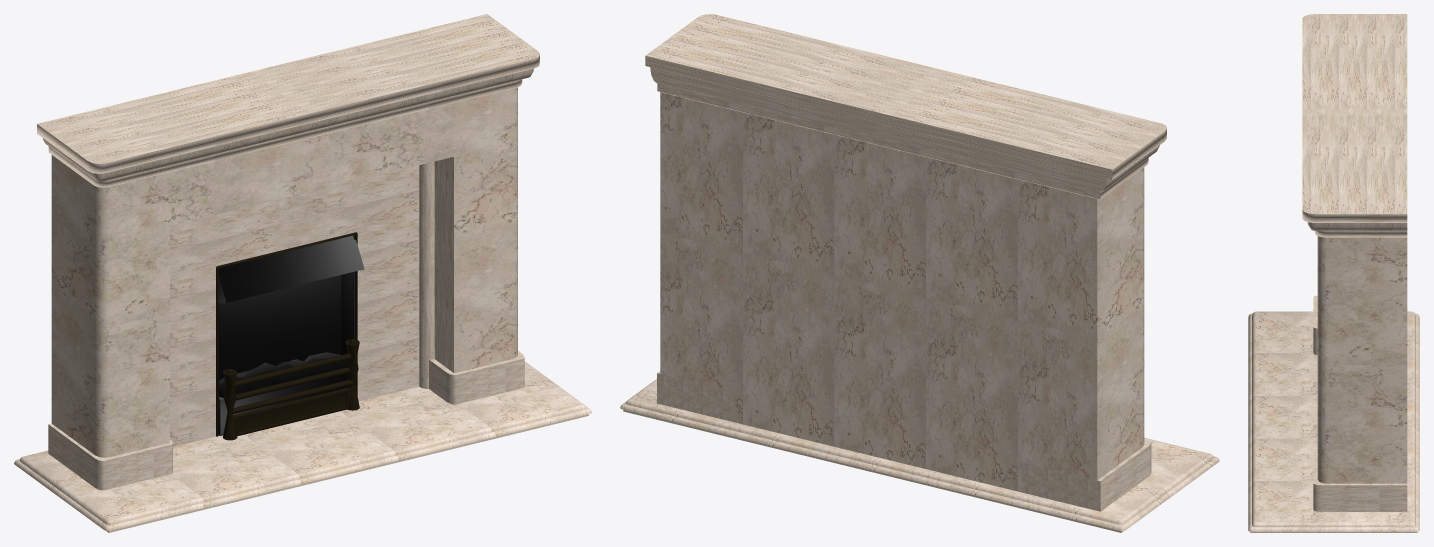
Rendered from fireplace.FBX.
3 views of the same model, side by side, from view 1: azimuth 30°, elevation 25°; view 2: azimuth 150°, elevation 25°; view 3: azimuth 270°, elevation 25° (orthographic). The views are drawn at different scales.
Parts seen in each view (by area): view 1: ChamferBox001, ChamferBox004, ChamferBox014, Plane001, Cylinder001, ChamferBox012, ChamferBox003, ChamferBox015, ChamferBox002, Cylinder005, ChamferBox013, ChamferBox009 (+9 smaller); view 2: ChamferBox001, ChamferBox004, ChamferBox014, ChamferBox003, ChamferBox012, ChamferBox015, ChamferBox002, ChamferBox013, Box008; view 3: ChamferBox001, ChamferBox004, ChamferBox014, ChamferBox013, ChamferBox015, ChamferBox003, ChamferBox002, ChamferBox012.
Boxes of the visible parts, left/top/right/bottom form: ChamferBox001: left=51, top=87, right=517, bottom=457; ChamferBox004: left=37, top=14, right=539, bottom=173; ChamferBox014: left=19, top=361, right=586, bottom=525; Plane001: left=219, top=275, right=341, bottom=380; Cylinder001: left=218, top=235, right=364, bottom=303; ChamferBox012: left=48, top=423, right=172, bottom=490; ChamferBox003: left=43, top=68, right=533, bottom=181; ChamferBox015: left=14, top=406, right=591, bottom=531; ChamferBox002: left=48, top=79, right=522, bottom=187; Cylinder005: left=419, top=161, right=434, bottom=388; ChamferBox013: left=429, top=351, right=524, bottom=404; ChamferBox009: left=233, top=387, right=351, bottom=436; ChamferBox001: left=660, top=92, right=1144, bottom=492; ChamferBox004: left=645, top=14, right=1166, bottom=179; ChamferBox014: left=626, top=379, right=1213, bottom=524; ChamferBox003: left=650, top=67, right=1159, bottom=191; ChamferBox012: left=1022, top=440, right=1151, bottom=511; ChamferBox015: left=620, top=401, right=1219, bottom=530; ChamferBox002: left=657, top=83, right=1148, bottom=199; ChamferBox013: left=657, top=371, right=735, bottom=422; Box008: left=623, top=409, right=1123, bottom=532; ChamferBox001: left=1317, top=236, right=1407, bottom=483; ChamferBox004: left=1302, top=14, right=1407, bottom=222; ChamferBox014: left=1252, top=311, right=1415, bottom=526; ChamferBox013: left=1313, top=452, right=1407, bottom=511; ChamferBox015: left=1248, top=313, right=1419, bottom=531; ChamferBox003: left=1307, top=222, right=1407, bottom=230; ChamferBox002: left=1314, top=231, right=1407, bottom=237; ChamferBox012: left=1313, top=295, right=1317, bottom=355.
Size of the model in its own units: 131 by 88.36 by 43.94.
3 materials, 2 textured.
